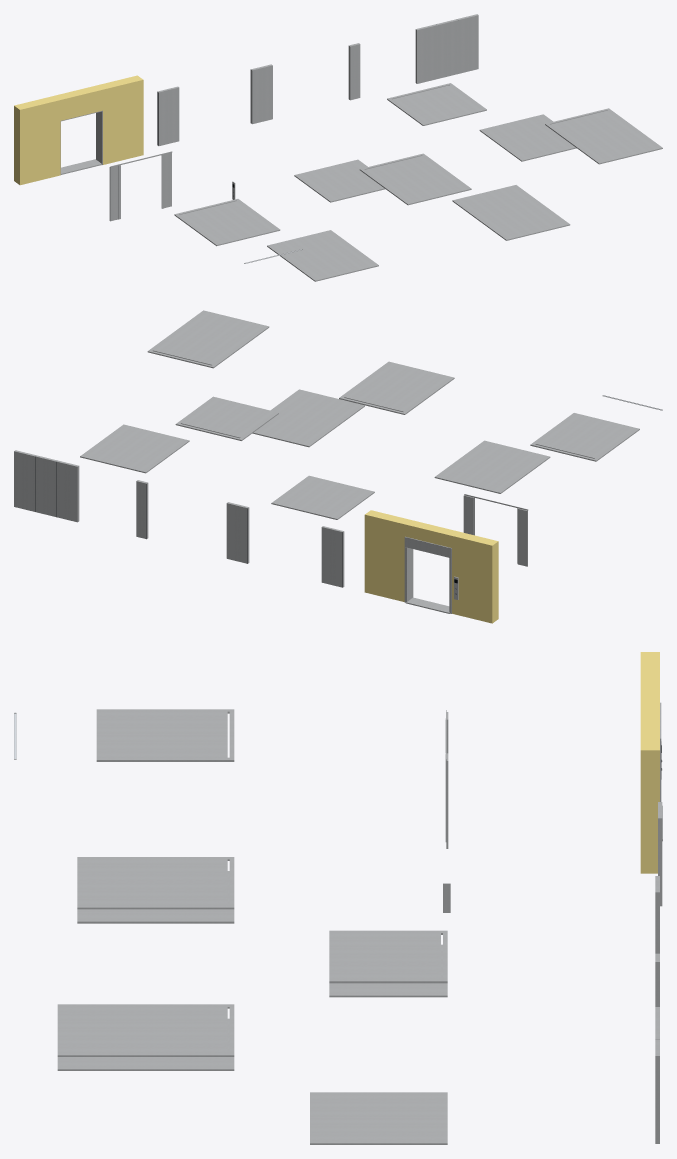
File: Level1_ElevatorInset.fbx
3 renders of one model, top to bottom at view 1: azimuth 30°, elevation 25°; view 2: azimuth 150°, elevation 25°; view 3: azimuth 270°, elevation 25°, orthographic. The views are drawn at different scales.
Visible parts, largest first — view 1: ElevatorExterior, CabinBack12, CabinCeilingDepth18, CabinFloorDepth18, CabinCeilingDepth16, CabinFloorDepth16, CabinCeilingDepth14, CabinFloorDepth14, CabinCeilingDepth12, CabinFloorDepth12, CabinFrontReturn12, CabinWallModule4 (+2 smaller); view 2: ElevatorExterior, CabinCeilingDepth18, CabinBack12, CabinFloorDepth18, CabinCeilingDepth16, CabinFloorDepth16, CabinCeilingDepth14, CabinFloorDepth14, CabinCeilingDepth12, CabinFloorDepth12, CabinWallModule4, ElevatorDoorLeaf (+2 smaller); view 3: CabinCeilingDepth18, CabinCeilingDepth16, CabinCeilingDepth14, CabinFloorDepth14, CabinCeilingDepth12, ElevatorExterior, CabinFloorDepth18, CabinFloorDepth16, CabinFloorDepth12.
Part boxes in pixels (x1=…): ElevatorExterior: x1=14, y1=75, x2=143, y2=185; CabinBack12: x1=415, y1=14, x2=478, y2=83; CabinCeilingDepth18: x1=545, y1=108, x2=662, y2=164; CabinFloorDepth18: x1=452, y1=185, x2=570, y2=240; CabinCeilingDepth16: x1=359, y1=153, x2=471, y2=205; CabinFloorDepth16: x1=267, y1=230, x2=378, y2=281; CabinCeilingDepth14: x1=174, y1=199, x2=280, y2=246; CabinFloorDepth14: x1=479, y1=114, x2=576, y2=161; CabinCeilingDepth12: x1=387, y1=83, x2=486, y2=125; CabinFloorDepth12: x1=294, y1=159, x2=385, y2=202; CabinFrontReturn12: x1=109, y1=151, x2=172, y2=221; CabinWallModule4: x1=250, y1=64, x2=272, y2=124; ElevatorExterior: x1=364, y1=510, x2=498, y2=623; CabinCeilingDepth18: x1=147, y1=310, x2=269, y2=368; CabinBack12: x1=14, y1=450, x2=79, y2=522; CabinFloorDepth18: x1=252, y1=389, x2=364, y2=447; CabinCeilingDepth16: x1=339, y1=361, x2=454, y2=414; CabinFloorDepth16: x1=434, y1=440, x2=550, y2=493; CabinCeilingDepth14: x1=530, y1=413, x2=639, y2=461; CabinFloorDepth14: x1=80, y1=424, x2=189, y2=473; CabinCeilingDepth12: x1=175, y1=396, x2=278, y2=440; CabinFloorDepth12: x1=271, y1=475, x2=374, y2=519; CabinWallModule4: x1=226, y1=502, x2=249, y2=563; ElevatorDoorLeaf: x1=321, y1=526, x2=344, y2=587; CabinCeilingDepth18: x1=57, y1=1004, x2=234, y2=1056; CabinCeilingDepth16: x1=77, y1=857, x2=234, y2=909; CabinCeilingDepth14: x1=96, y1=709, x2=234, y2=761; CabinFloorDepth14: x1=310, y1=1092, x2=447, y2=1144; CabinCeilingDepth12: x1=329, y1=930, x2=447, y2=983; ElevatorExterior: x1=640, y1=652, x2=662, y2=873; CabinFloorDepth18: x1=57, y1=1018, x2=234, y2=1070; CabinFloorDepth16: x1=77, y1=871, x2=234, y2=923; CabinFloorDepth12: x1=329, y1=944, x2=447, y2=997.
Bounding box in the file's own units: 2526 × 438 × 1874.
Materials: 6 (1 with a texture image).
